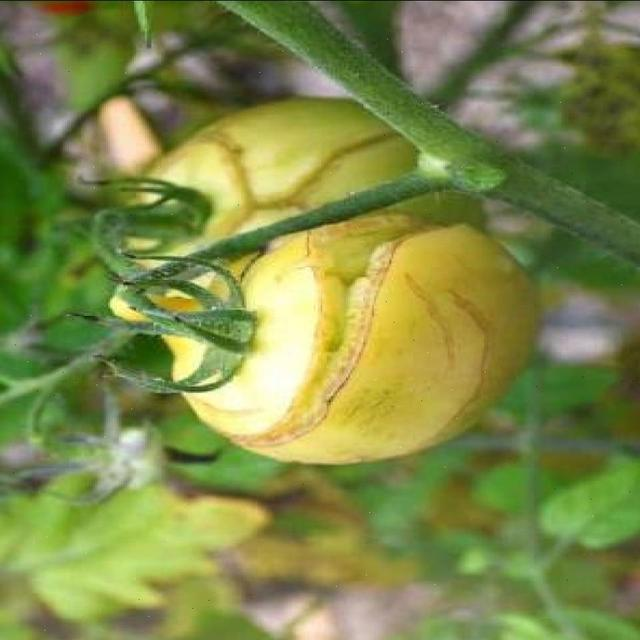Cracking Fruit: (72, 58, 211, 217)
